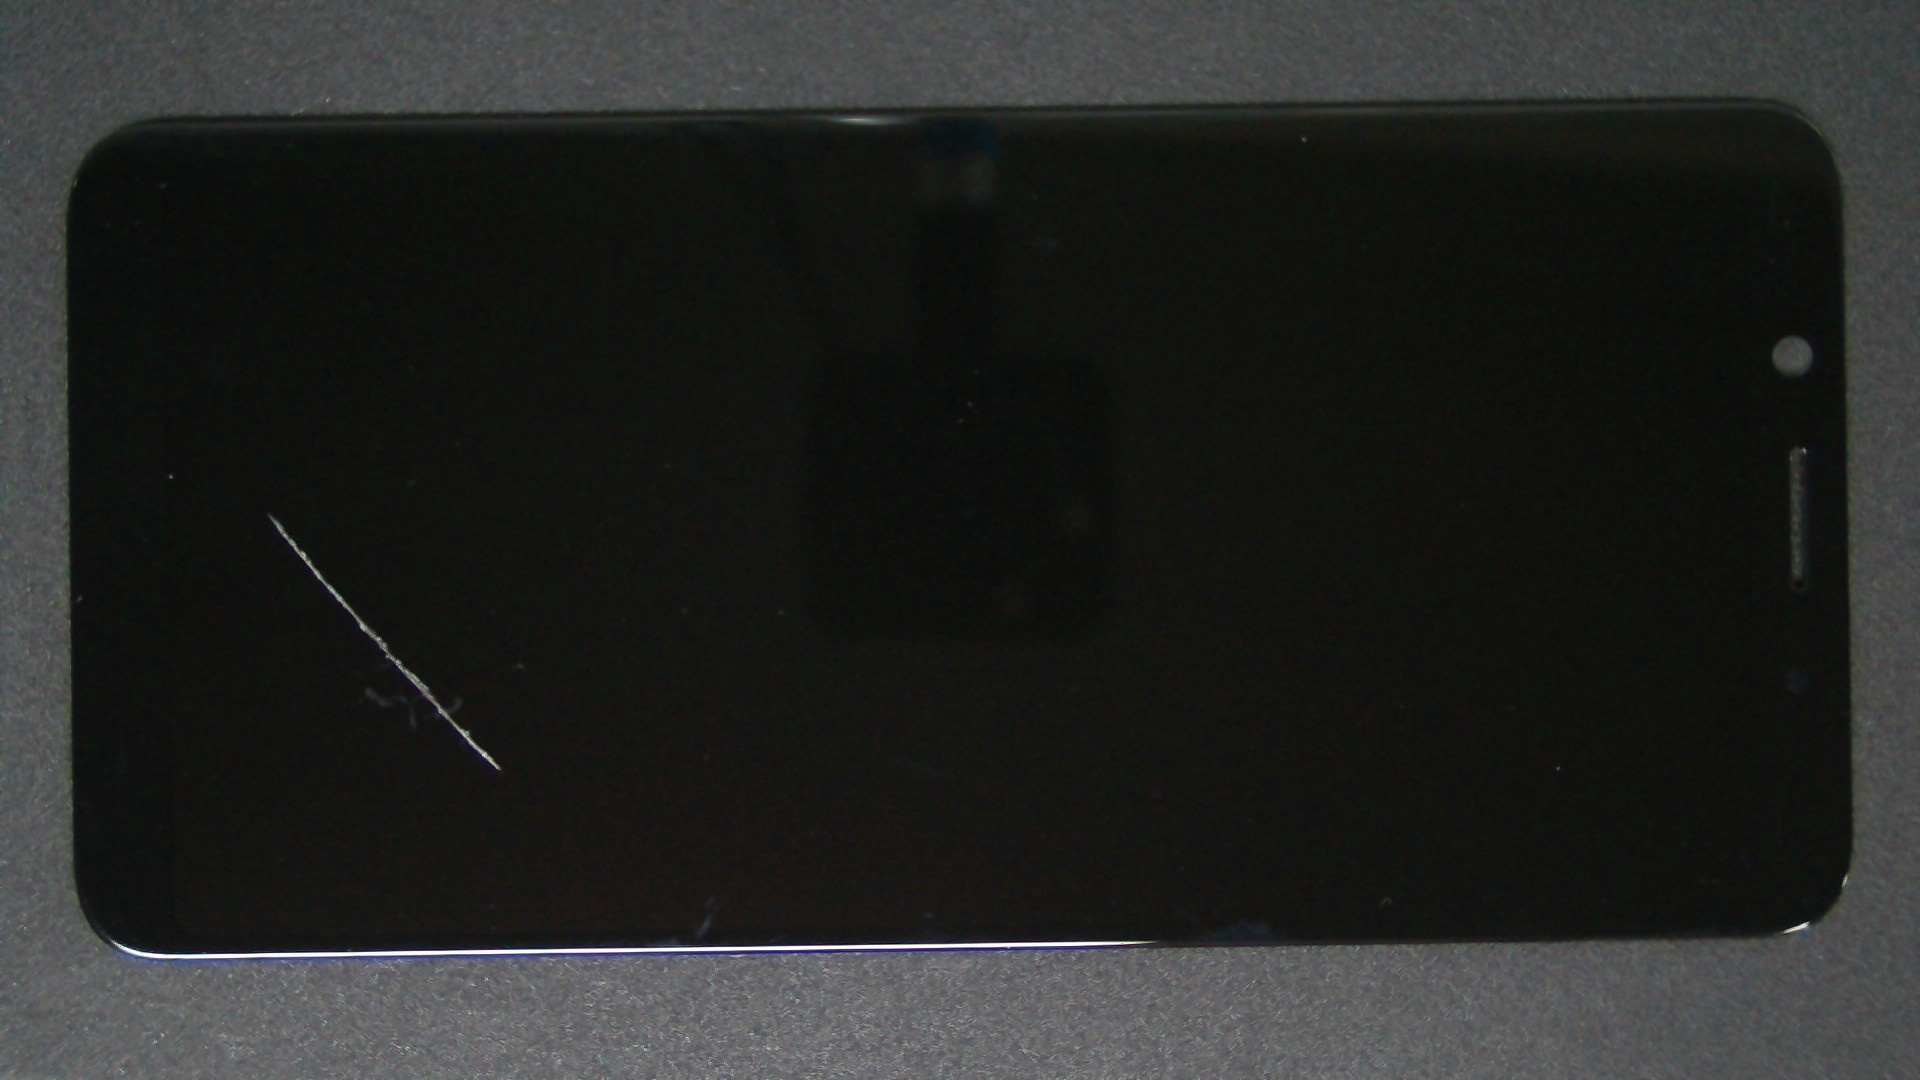oil: (135, 256, 401, 769)
